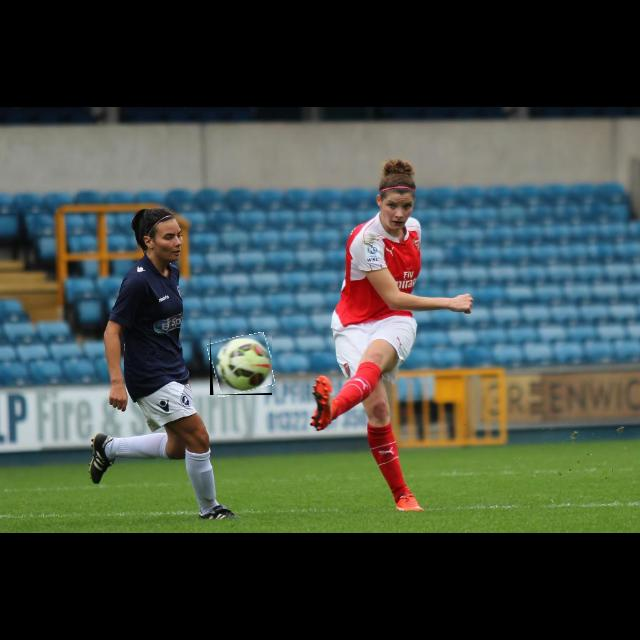Football: (210, 335, 272, 395)
